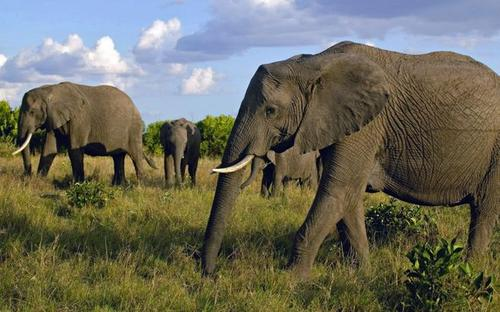elephant: (204, 41, 500, 288), (14, 82, 155, 181), (246, 132, 328, 190), (159, 118, 201, 187)
